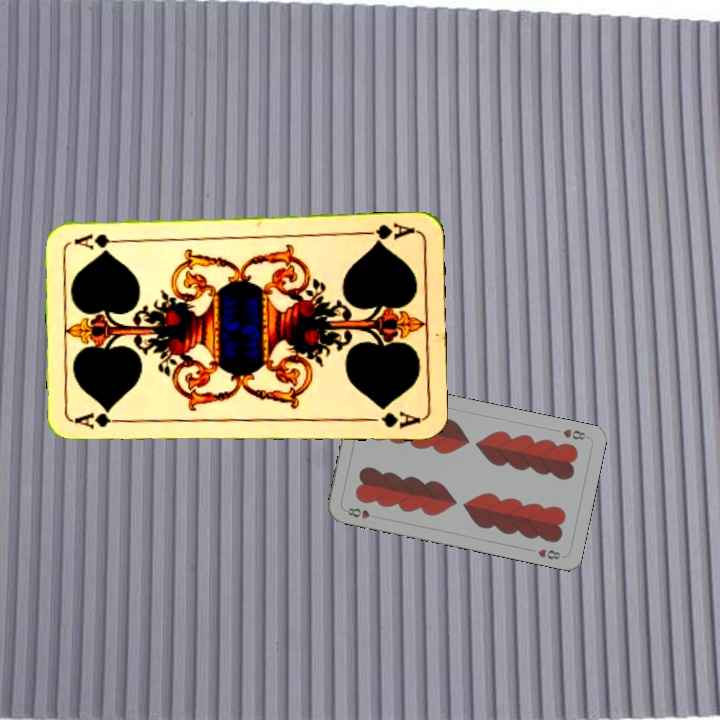GA: (359, 219, 418, 246), (72, 410, 131, 432)
H8: (341, 504, 381, 521), (559, 425, 591, 442)
